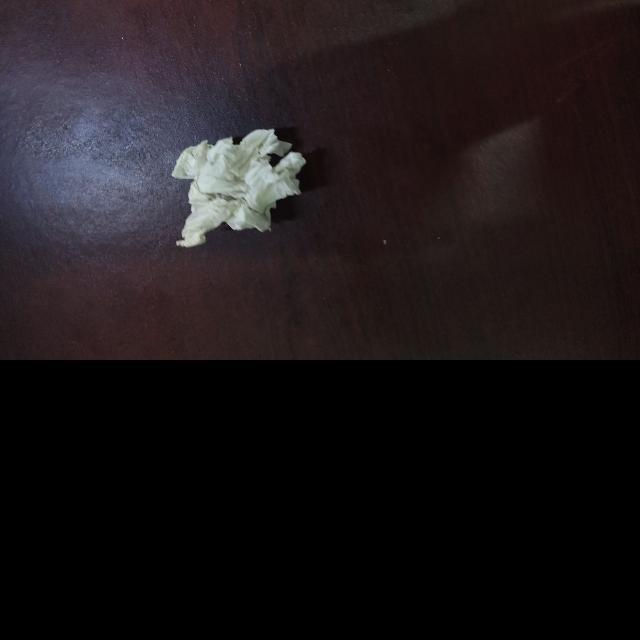kitchen paper: (170, 126, 309, 250)
